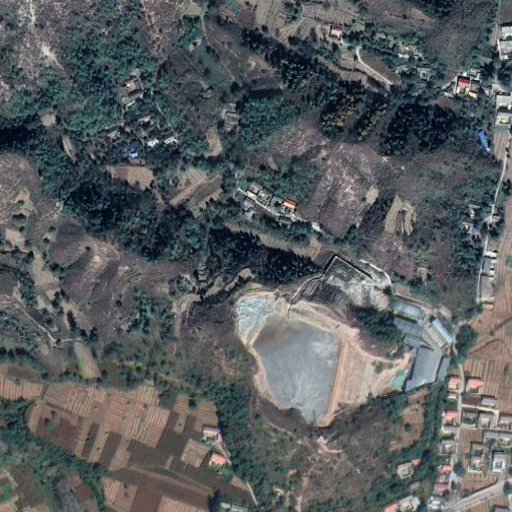tp: (235, 293, 397, 426)
